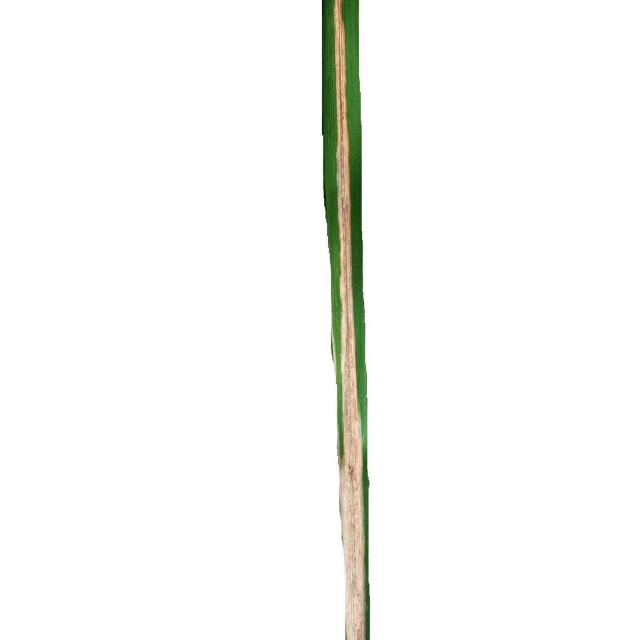Bacterial leaf blight: (334, 0, 368, 640)
